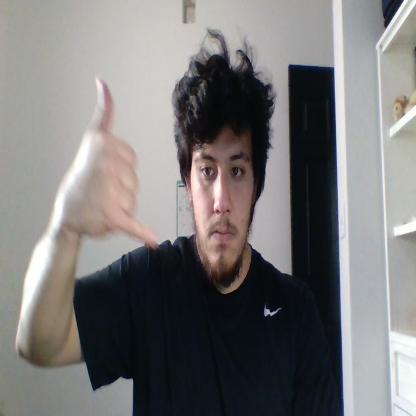Y: (74, 75, 159, 247)
